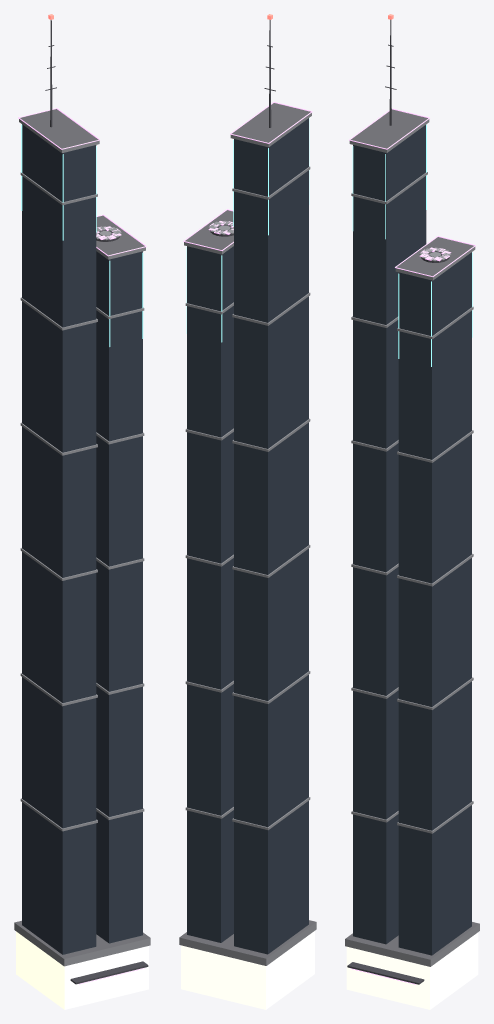
Rendered from s12_twin.glb.
The picture shows the model from 3 angles, left to right: view 1: azimuth 30°, elevation 25°; view 2: azimuth 150°, elevation 25°; view 3: azimuth 330°, elevation 25°; orthographic projection.
Parts seen in each view (by area): view 1: s12_twin; view 2: s12_twin; view 3: s12_twin.
Boxes of the visible parts, x1,y1,x2,y2 form: s12_twin: [14, 14, 150, 1009]; s12_twin: [179, 14, 316, 1009]; s12_twin: [345, 14, 479, 1009].
Bounding box in the file's own units: 12.3 × 132 × 13.49.
